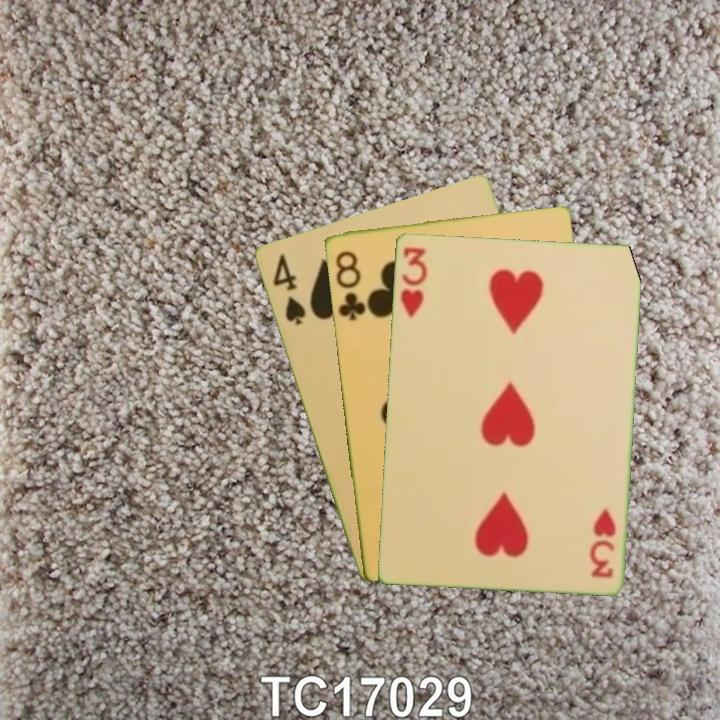3h: (397, 243, 430, 320), (587, 504, 619, 581)
4s: (268, 249, 308, 328)
8c: (331, 247, 368, 323)
